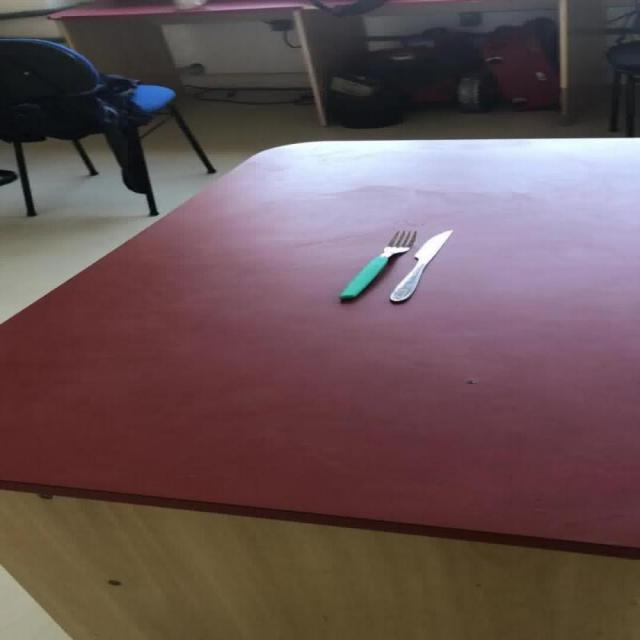Fork: (337, 228, 417, 300)
Knife: (388, 228, 452, 302)
